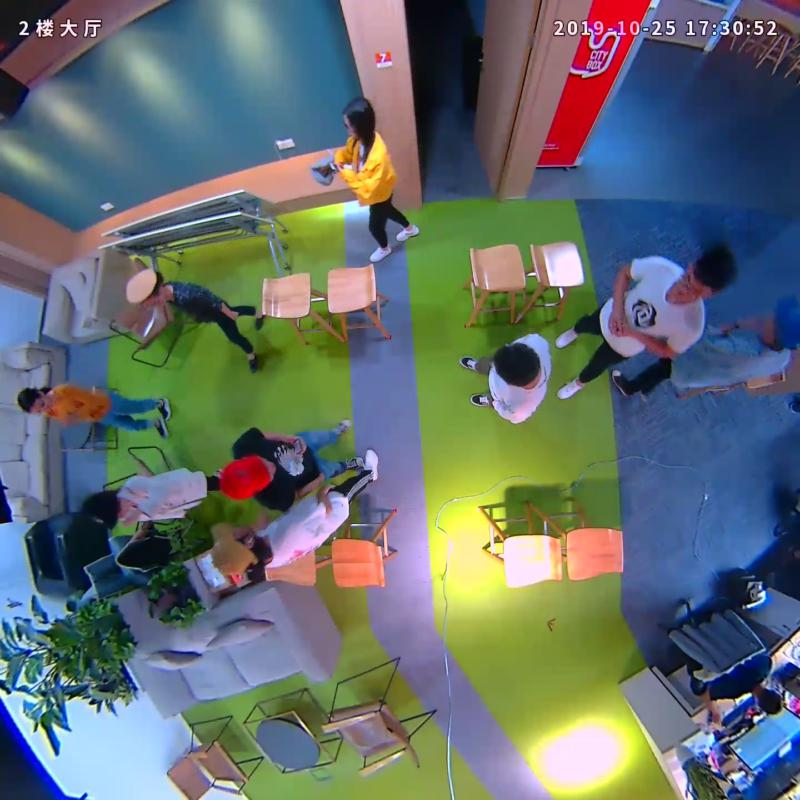head: (672, 247, 735, 303), (207, 521, 260, 573), (219, 454, 277, 499), (761, 294, 800, 350), (492, 343, 541, 387), (80, 489, 129, 527), (126, 266, 169, 307), (343, 95, 374, 140), (17, 387, 53, 416)
